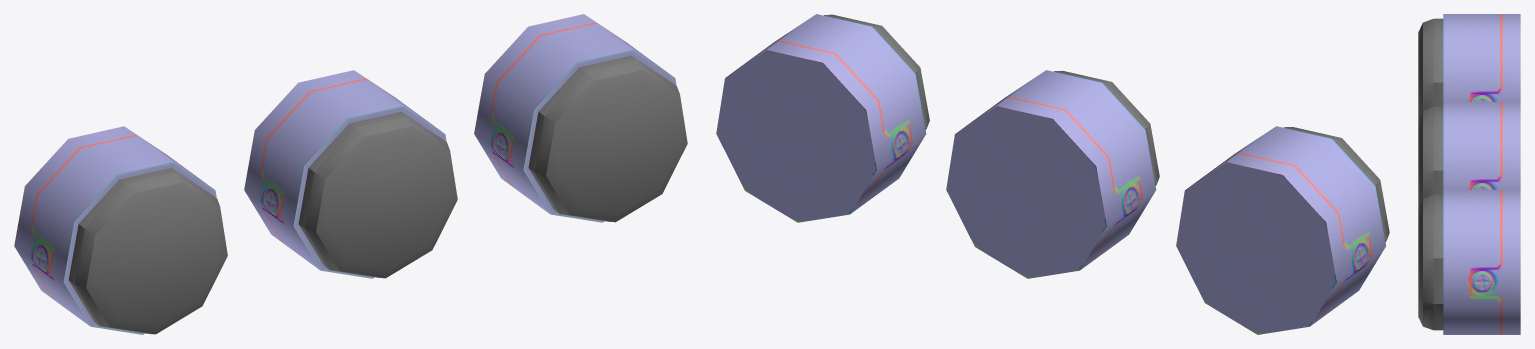
The model's file is LitFloodLightsA1.fbx.
3 views of the same model, side by side, from view 1: azimuth 30°, elevation 25°; view 2: azimuth 150°, elevation 25°; view 3: azimuth 270°, elevation 25° (orthographic). The views are drawn at different scales.
Parts seen in each view (by area): view 1: LitFloodLightsA1; view 2: LitFloodLightsA1; view 3: LitFloodLightsA1.
Part boxes in pixels (x1=…): LitFloodLightsA1: x1=14, y1=14, x2=687, y2=334; LitFloodLightsA1: x1=716, y1=14, x2=1389, y2=334; LitFloodLightsA1: x1=1418, y1=14, x2=1520, y2=334.
Bounding box in the file's own units: 75.44 × 19.31 × 13.73.
Materials: 2 (1 with a texture image).
